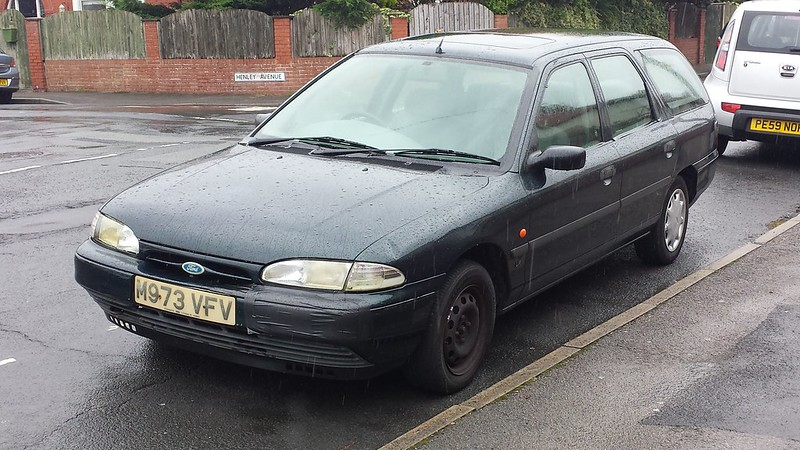number_plate: (125, 271, 248, 332), (747, 110, 800, 141), (1, 77, 15, 90)
